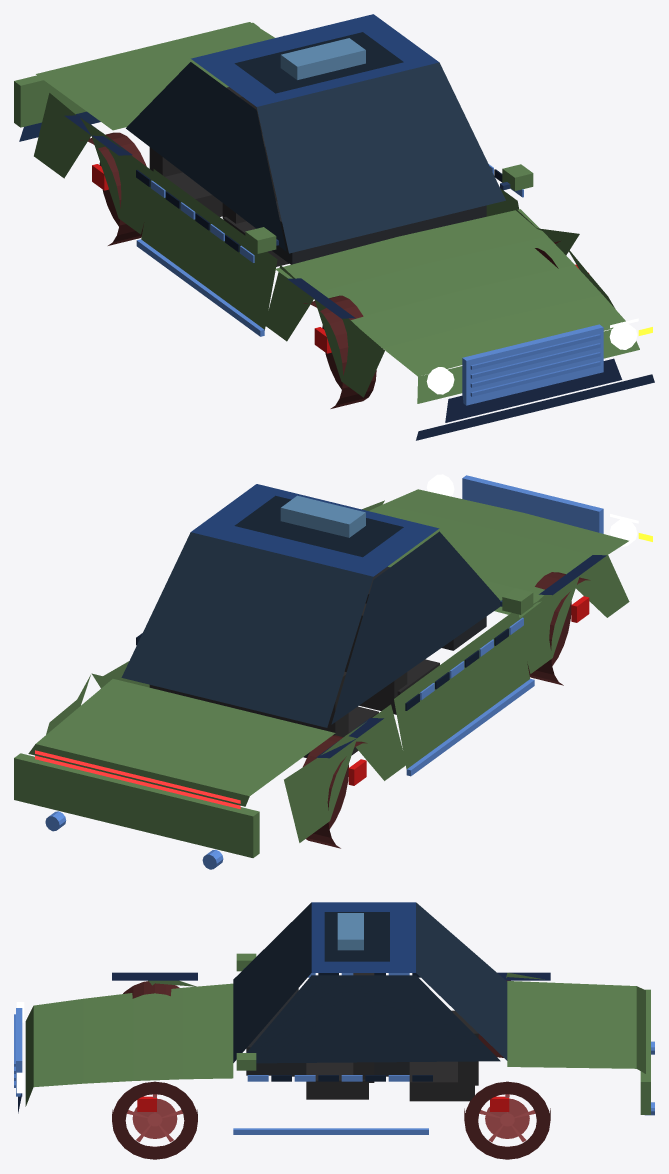
The model's file is metro_yellow_cab_lod0.glb.
The picture shows the model from 3 angles, top to bottom: view 1: azimuth 30°, elevation 25°; view 2: azimuth 150°, elevation 25°; view 3: azimuth 270°, elevation 25°; orthographic projection. The views are drawn at different scales.
Parts seen in each view (by area): view 1: Chassis, Glass, Interior, Wheel_FL, Wheel_RL, Headlights; view 2: Chassis, Glass, Interior, BrakeLights, Wheel_FL, Wheel_RL, Headlights; view 3: Chassis, Glass, Interior, Wheel_RR, Wheel_FR, Wheel_FL.
Part boxes in pixels (box(x1,y1,x2,y2)): Chassis: box(14, 22, 654, 440); Glass: box(126, 14, 505, 253); Interior: box(149, 87, 486, 266); Wheel_FL: box(303, 295, 376, 408); Wheel_RL: box(80, 132, 146, 245); Headlights: box(426, 318, 638, 394); Chassis: box(14, 475, 629, 869); Glass: box(121, 484, 500, 727); Interior: box(149, 566, 486, 757); BrakeLights: box(35, 750, 240, 809); Wheel_FL: box(527, 572, 590, 685); Wheel_RL: box(303, 735, 367, 848); Headlights: box(426, 474, 638, 546); Chassis: box(14, 913, 654, 1134); Glass: box(233, 902, 507, 1063); Interior: box(246, 973, 478, 1101); Wheel_RR: box(464, 1081, 550, 1159); Wheel_FR: box(112, 1081, 197, 1159); Wheel_FL: box(123, 981, 179, 998).
Bounding box in the file's own units: 1.93 × 1.55 × 4.91.
